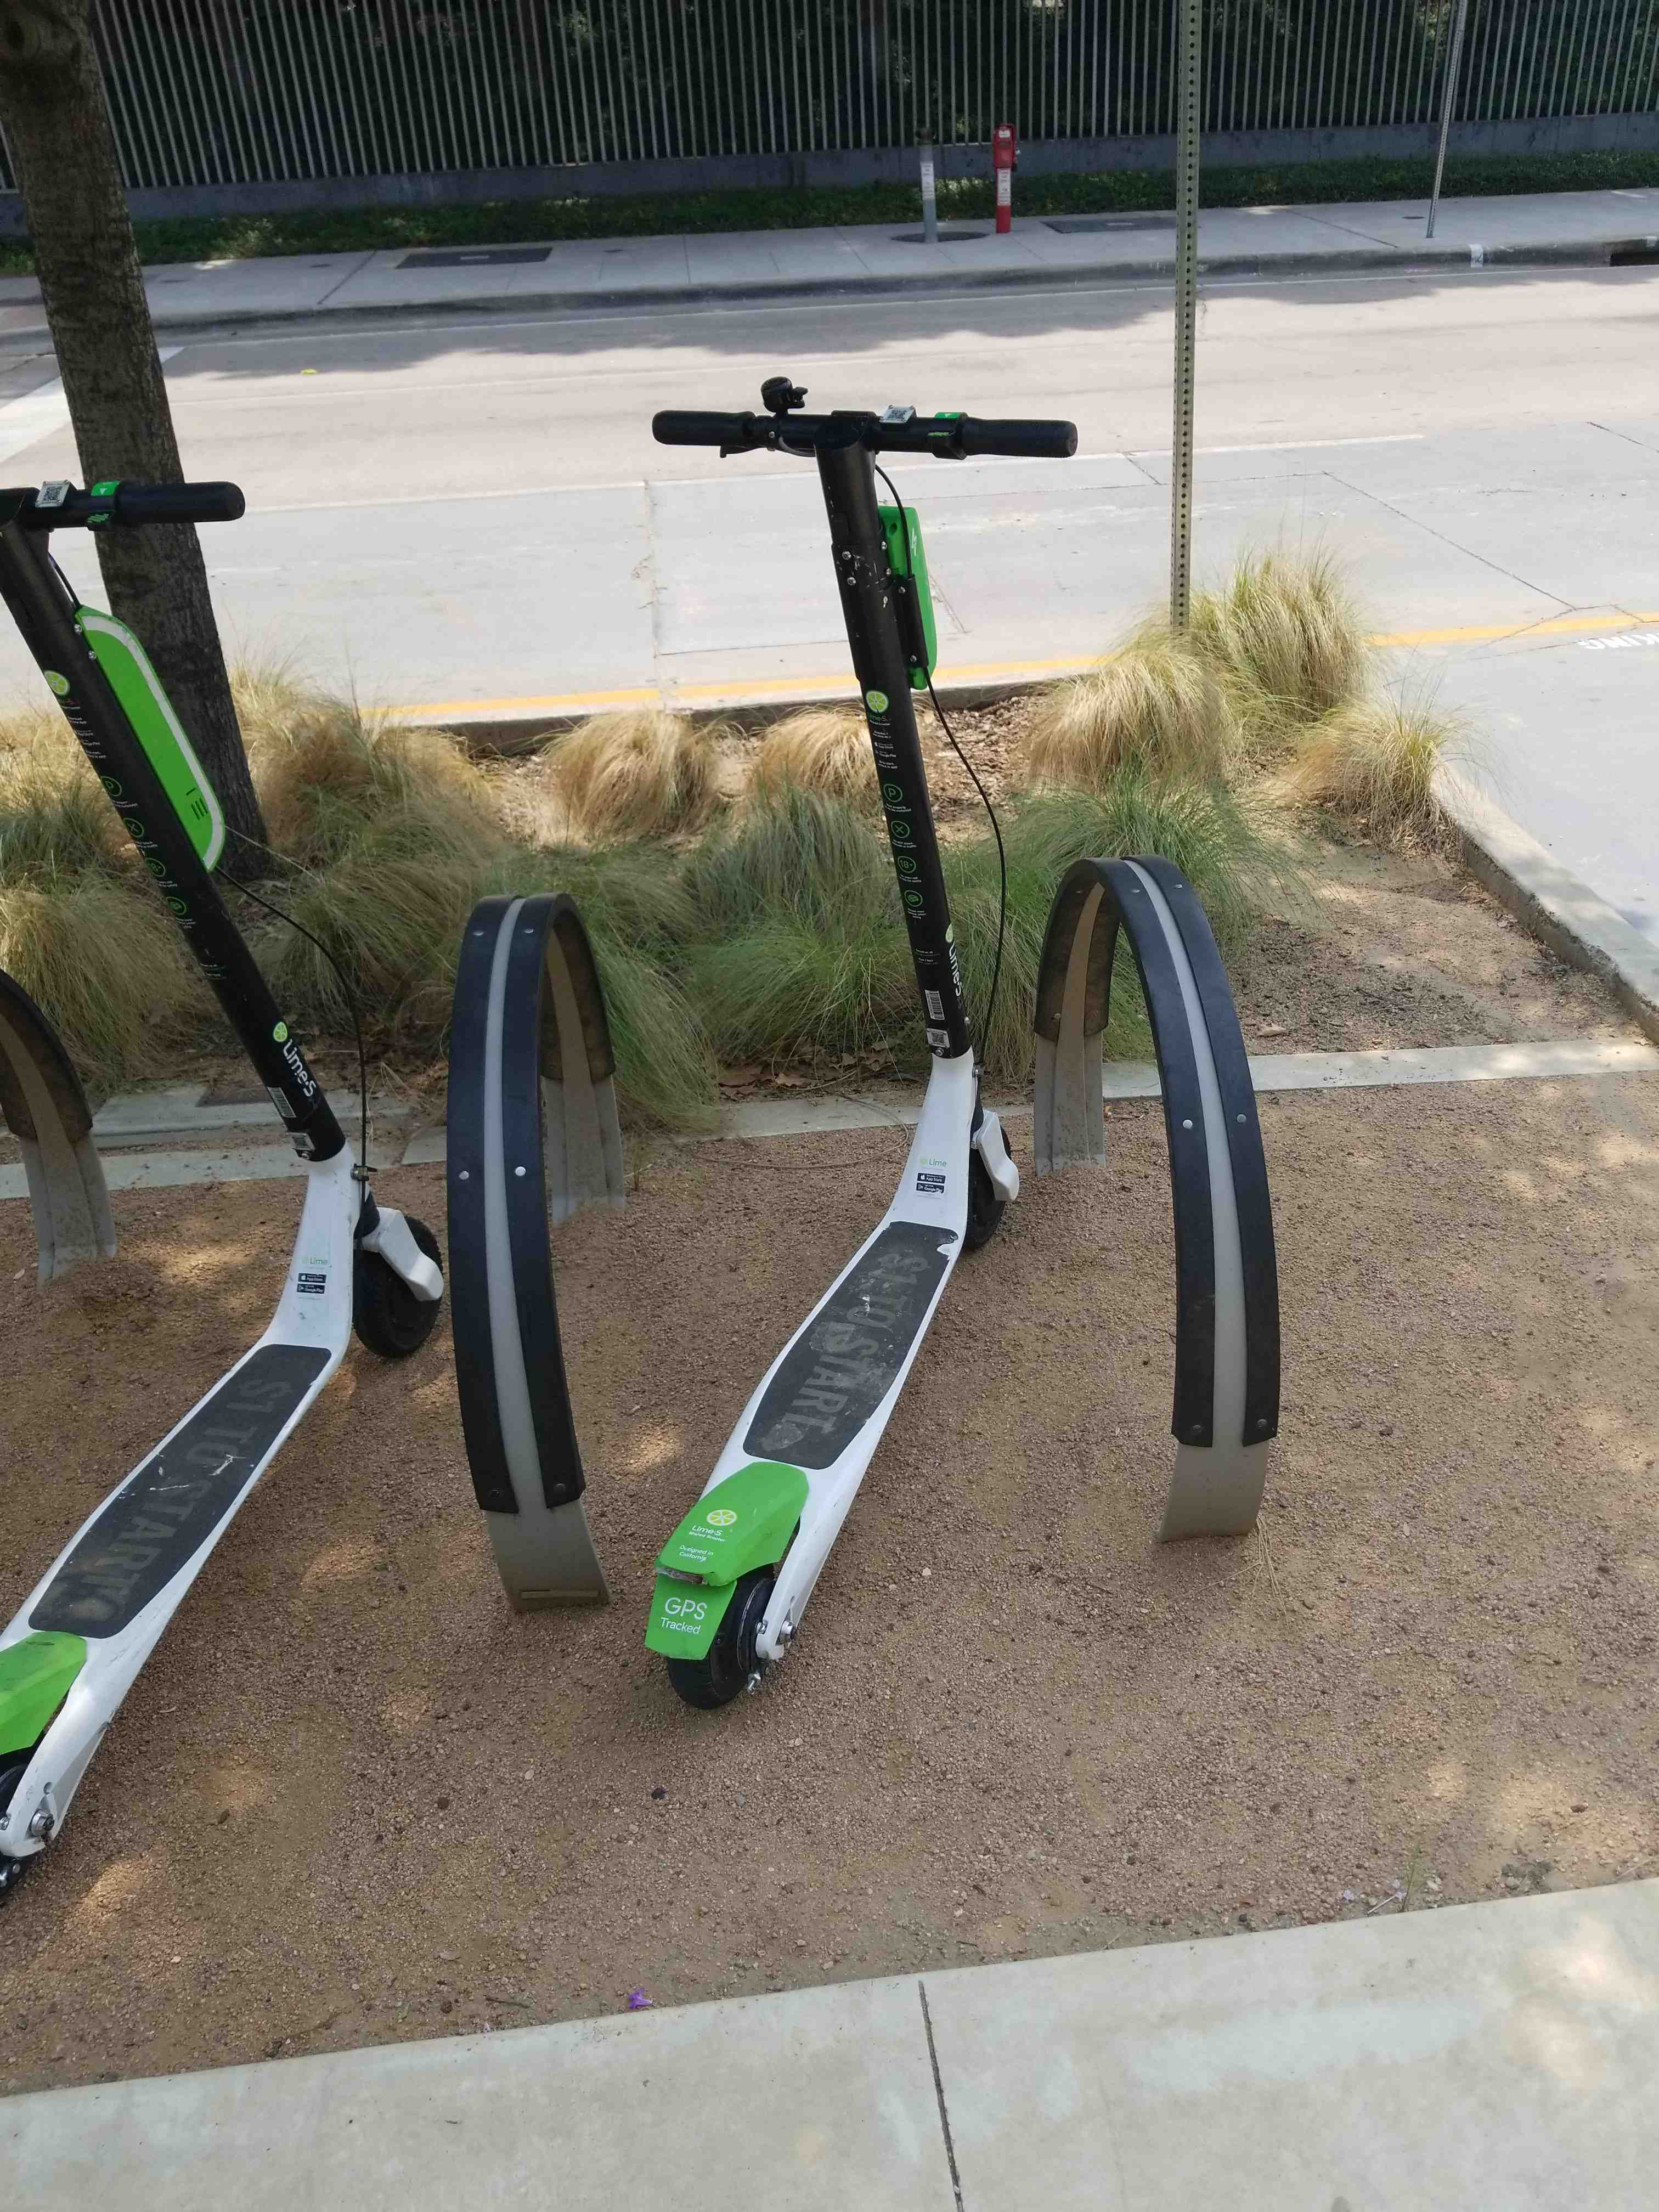scooter: (596, 352, 1098, 1719)
